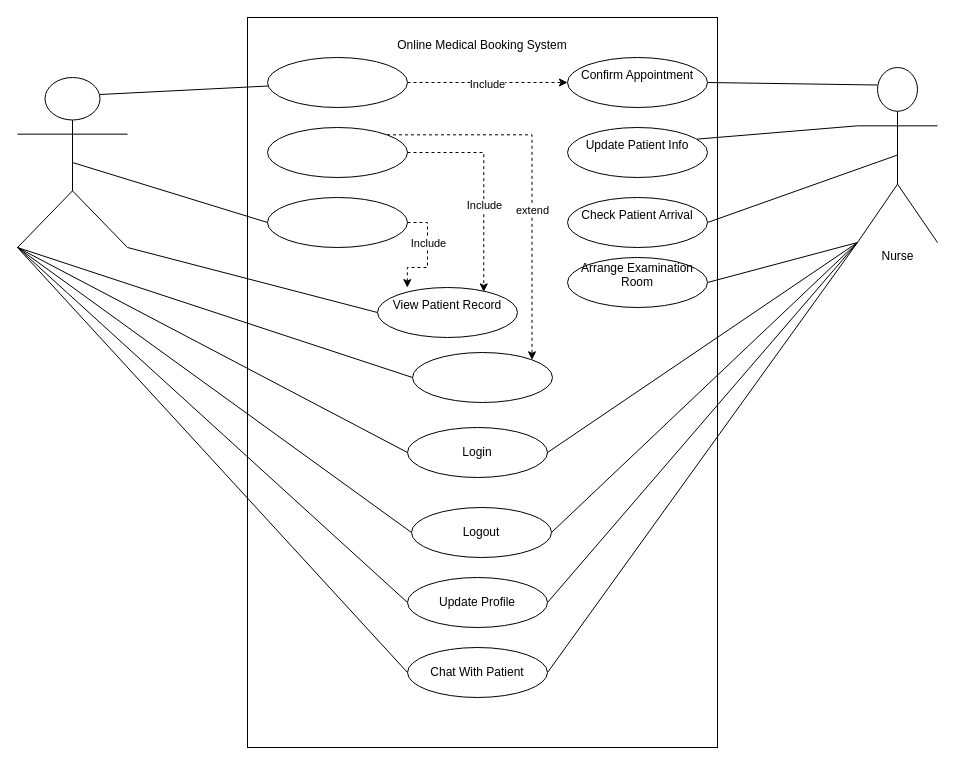
Image size: 955x765. Some labels were removed from this diagram. The centre of each missing label's shape, as x and y in pixels:
"Diagnose Patient" belongs at [337,152].
"Doctor" belongs at [72,162].
"Prescribe Medicine" belongs at [337,222].
"Request Lab Test" belongs at [482,377].
"View Schedule" belongs at [337,82].
